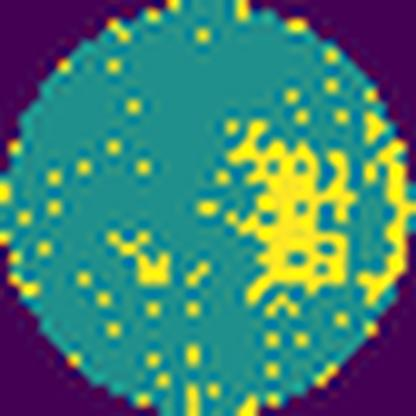Loc: (228, 120, 357, 302)
